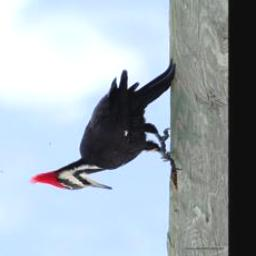Woodpecker: (29, 60, 181, 192)
